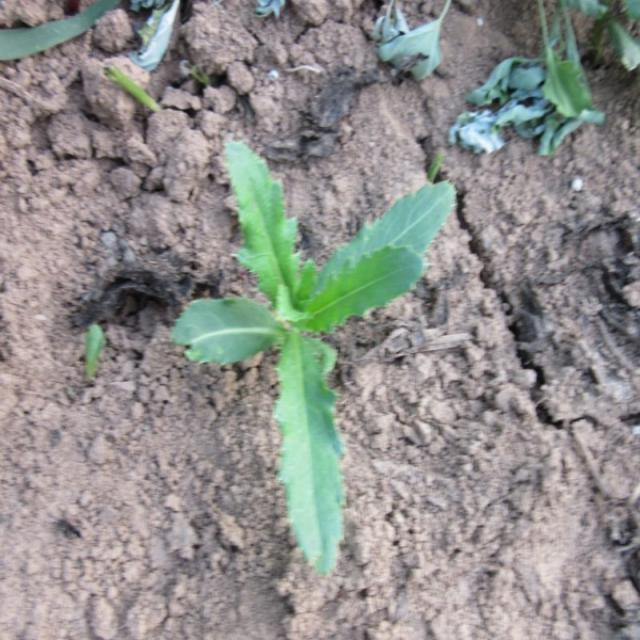cs: (170, 138, 460, 577)
